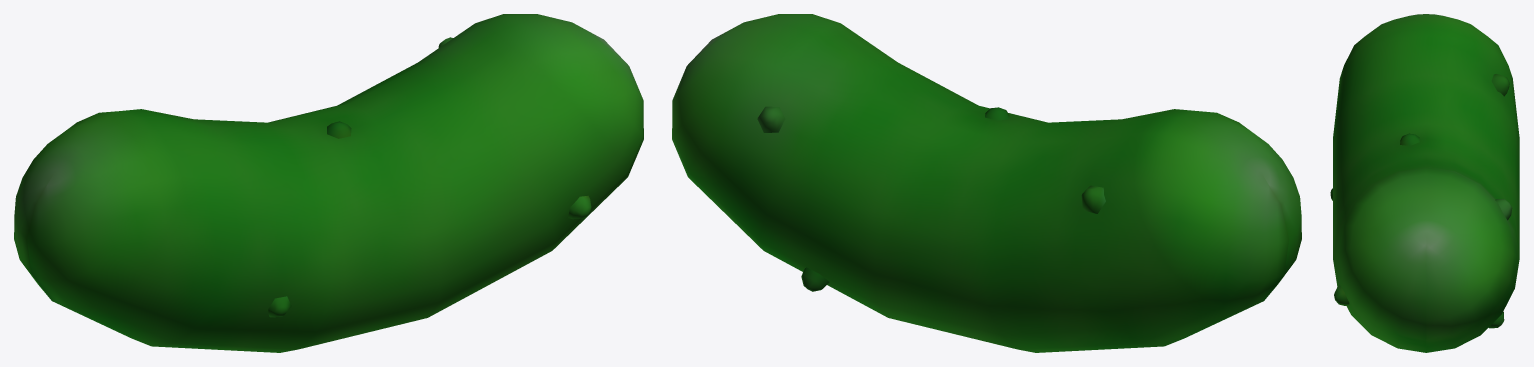
File: Cucumber.glb
3 views of the same model, side by side, from view 1: azimuth 30°, elevation 25°; view 2: azimuth 150°, elevation 25°; view 3: azimuth 270°, elevation 25° (orthographic). The views are drawn at different scales.
Visible parts, largest first — view 1: geometry_0; view 2: geometry_0; view 3: geometry_0.
Part boxes in pixels (x1=…): geometry_0: x1=14, y1=14, x2=643, y2=352; geometry_0: x1=672, y1=14, x2=1301, y2=352; geometry_0: x1=1330, y1=14, x2=1519, y2=352.
Size of the model in its own units: 2.46 by 1 by 0.8272.
Materials: 1 (1 with a texture image).
